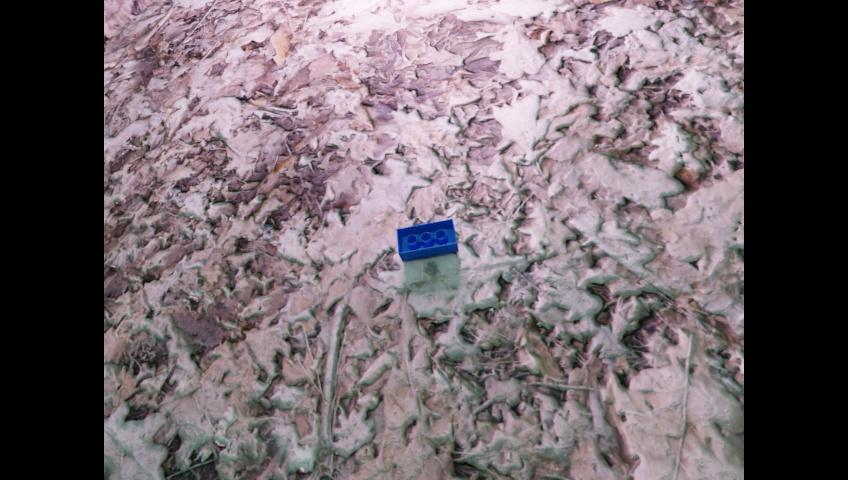4x2_blue: (396, 218, 457, 260)
